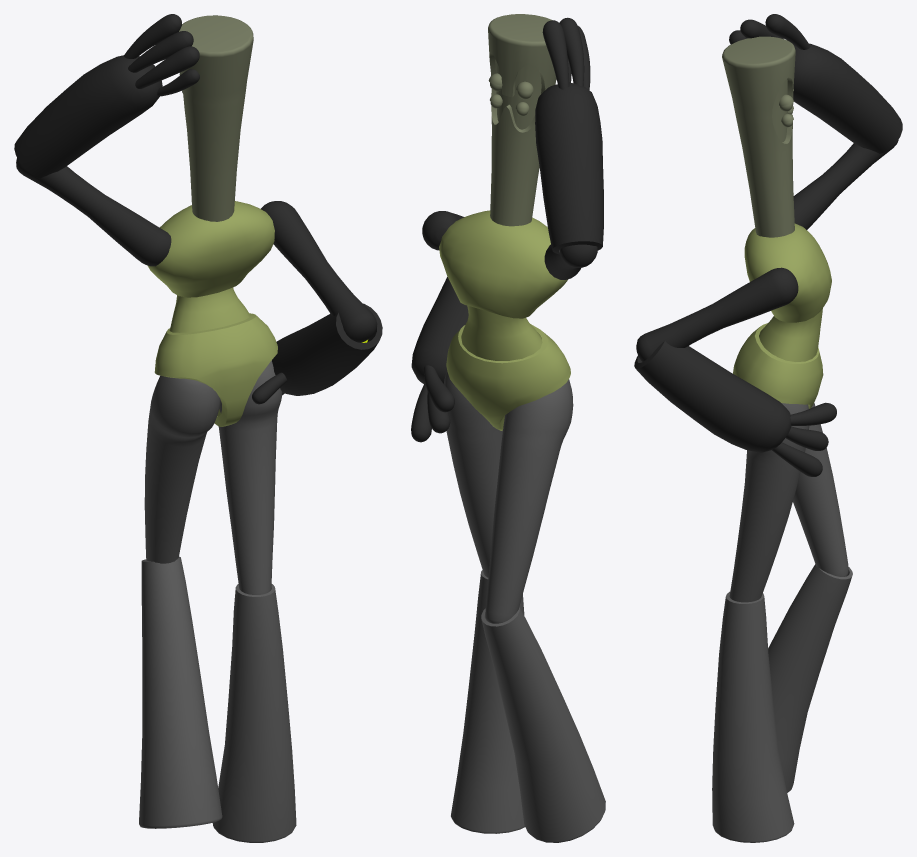
The model's file is Florence_Pose_002.fbx.
3 views of the same model, side by side, from view 1: azimuth 30°, elevation 25°; view 2: azimuth 150°, elevation 25°; view 3: azimuth 270°, elevation 25° (orthographic). The views are drawn at different scales.
Visible parts, largest first — view 1: L_Foot, R_Foot, Head, L_Thigh, R_Thigh, L_Hand, Chest, Pelvis, R_Hand, R_Shoulder, L_Shoulder, Waist (+3 smaller); view 2: L_Foot, L_Thigh, Head, L_Hand, R_Foot, Chest, Pelvis, R_Thigh, Waist, R_Hand, L_Shoulder, L_Pinky (+5 smaller); view 3: R_Foot, Head, R_Hand, L_Foot, R_Thigh, L_Hand, R_Shoulder, Chest, L_Thigh, Pelvis, L_Shoulder, Waist (+4 smaller).
Part boxes in pixels (left/top/right/bottom): L_Foot: left=139, top=556, right=222, bottom=828; R_Foot: left=212, top=584, right=296, bottom=842; Head: left=179, top=15, right=253, bottom=221; L_Thigh: left=144, top=375, right=220, bottom=563; R_Thigh: left=218, top=360, right=282, bottom=594; L_Hand: left=14, top=55, right=162, bottom=178; Chest: left=147, top=201, right=274, bottom=297; Pelvis: left=154, top=313, right=277, bottom=426; R_Hand: left=272, top=303, right=382, bottom=395; R_Shoulder: left=261, top=201, right=377, bottom=342; L_Shoulder: left=16, top=158, right=171, bottom=266; Waist: left=169, top=287, right=250, bottom=332; L_Foot: left=481, top=607, right=605, bottom=842; L_Thigh: left=485, top=379, right=573, bottom=623; Head: left=488, top=14, right=556, bottom=226; L_Hand: left=535, top=83, right=603, bottom=254; R_Foot: left=451, top=570, right=524, bottom=833; Chest: left=439, top=210, right=567, bottom=318; Pelvis: left=446, top=324, right=570, bottom=430; R_Thigh: left=444, top=371, right=502, bottom=577; Waist: left=461, top=305, right=542, bottom=360; R_Hand: left=411, top=277, right=468, bottom=383; L_Shoulder: left=544, top=244, right=597, bottom=279; L_Pinky: left=542, top=20, right=569, bottom=89; R_Foot: left=712, top=591, right=794, bottom=842; Head: left=722, top=36, right=795, bottom=237; R_Hand: left=634, top=341, right=791, bottom=452; L_Foot: left=768, top=564, right=852, bottom=792; R_Thigh: left=729, top=403, right=809, bottom=602; L_Hand: left=793, top=43, right=902, bottom=153; R_Shoulder: left=636, top=267, right=798, bottom=361; Chest: left=744, top=223, right=831, bottom=322; L_Thigh: left=793, top=403, right=848, bottom=576; Pelvis: left=733, top=323, right=823, bottom=408; L_Shoulder: left=793, top=140, right=898, bottom=229; Waist: left=759, top=308, right=822, bottom=361.
Bounding box in the file's own units: 3.81 × 12 × 3.74.
